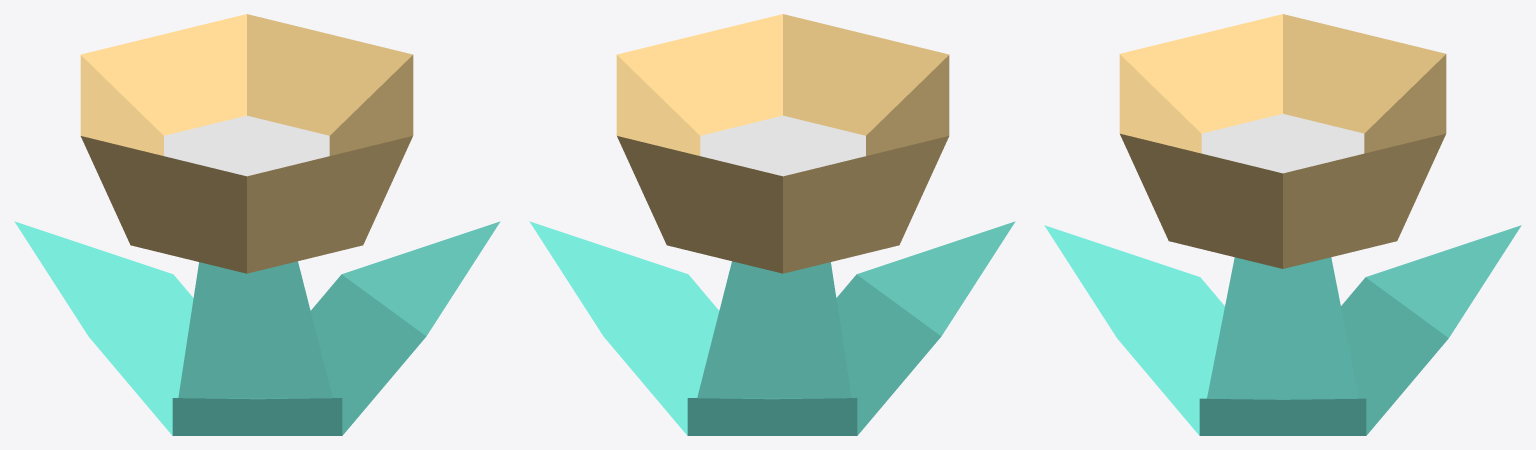
Rendered from flower_yellowC.gltf.
The picture shows the model from 3 angles, left to right: view 1: azimuth 30°, elevation 25°; view 2: azimuth 150°, elevation 25°; view 3: azimuth 270°, elevation 25°; orthographic projection.
Parts seen in each view (by area): view 1: flower_yellowC; view 2: flower_yellowC; view 3: flower_yellowC.
Part boxes in pixels (bbox=[...]): flower_yellowC: bbox=[14, 14, 500, 435]; flower_yellowC: bbox=[529, 14, 1015, 435]; flower_yellowC: bbox=[1044, 14, 1521, 435].
Size of the model in its own units: 0.1806 by 0.1325 by 0.1811.
